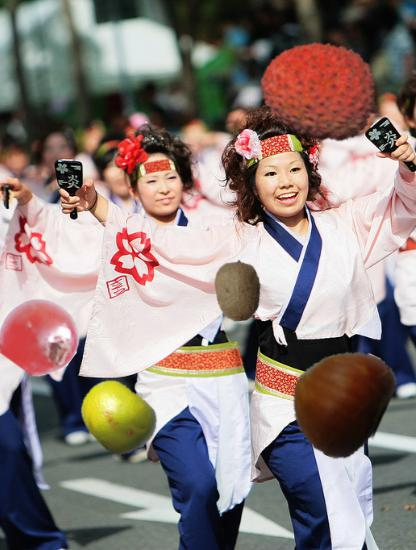Kiwi: (208, 260, 270, 322)
Lychee: (261, 27, 387, 153)
Nut: (284, 345, 395, 456)
Pomelo: (78, 377, 159, 458)
Redcurrant: (1, 298, 79, 376)
